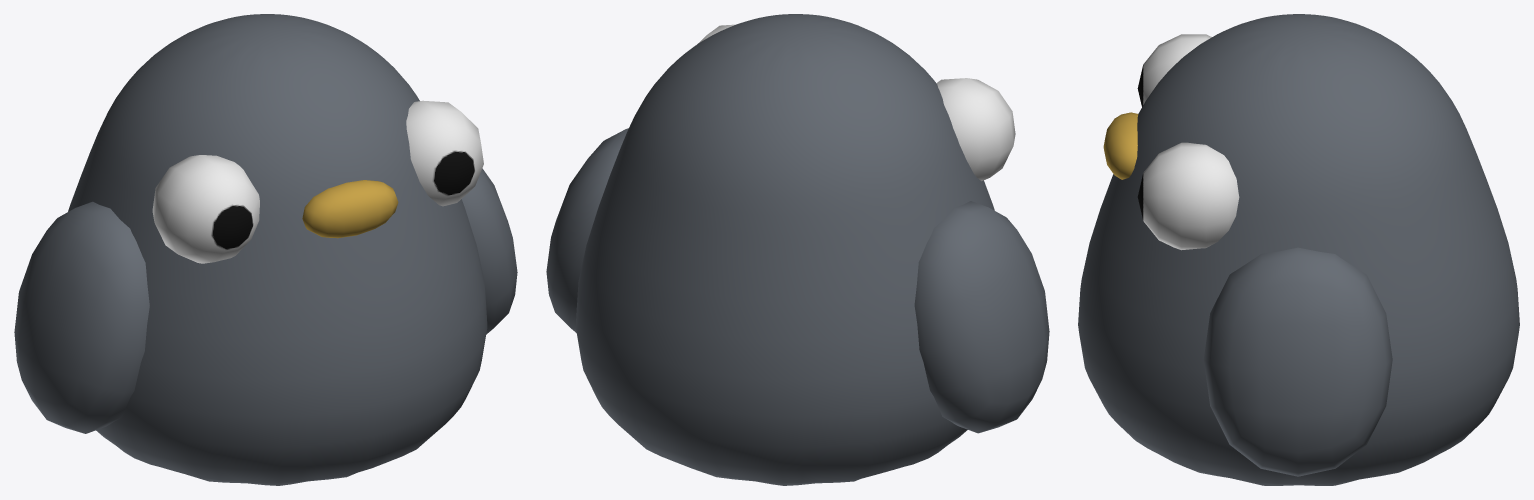
File: player.glb
The picture shows the model from 3 angles, left to right: view 1: azimuth 30°, elevation 25°; view 2: azimuth 150°, elevation 25°; view 3: azimuth 270°, elevation 25°; orthographic projection.
Visible parts, largest first — view 1: Sphere.003; view 2: Sphere.003; view 3: Sphere.003.
Part boxes in pixels (x1=…): Sphere.003: x1=14, y1=14, x2=517, y2=485; Sphere.003: x1=546, y1=14, x2=1049, y2=485; Sphere.003: x1=1078, y1=14, x2=1519, y2=485.
Size of the model in its own units: 1.92 by 1.63 by 1.57.
Materials: 1 (1 with a texture image).
